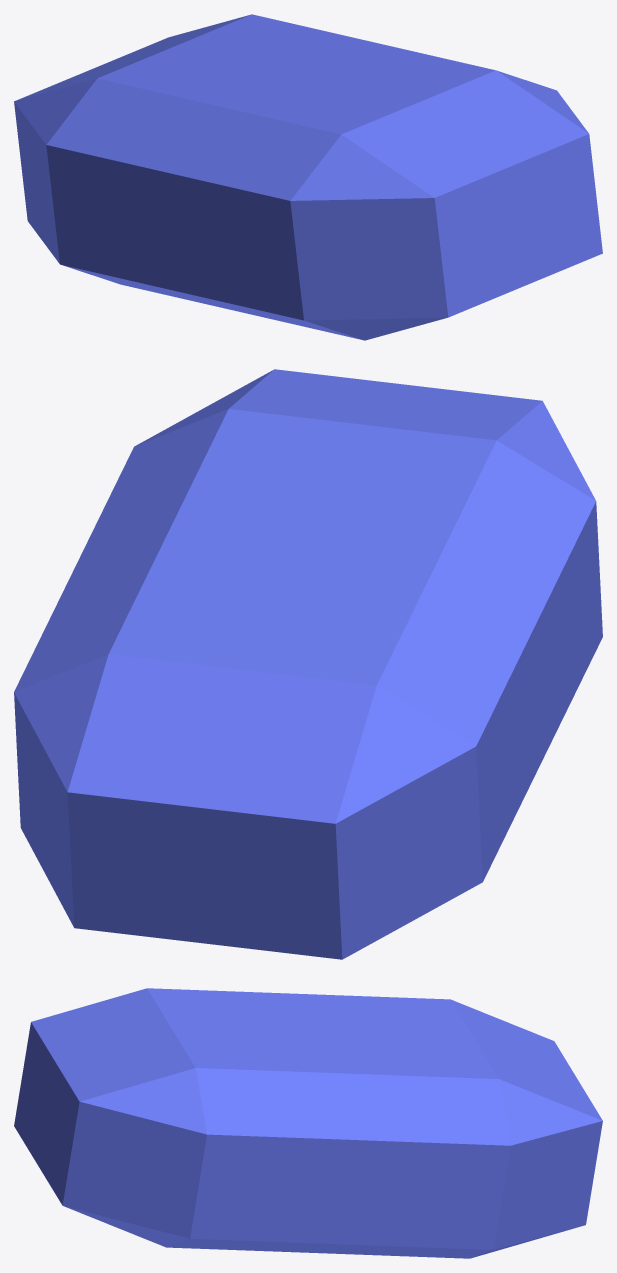
The model's file is Bracers.fbx.
3 views of the same model, one above another, from view 1: azimuth 30°, elevation 25°; view 2: azimuth 150°, elevation 25°; view 3: azimuth 270°, elevation 25° (orthographic). The views are drawn at different scales.
Visible parts, largest first — view 1: Cube.001; view 2: Cube.001; view 3: Cube.001.
Part boxes in pixels (x1,y1,x2,y2): Cube.001: (14,14,602,340); Cube.001: (14,369,602,959); Cube.001: (14,988,602,1258).
Size of the model in its own units: 0.2753 by 0.1643 by 0.3975.
